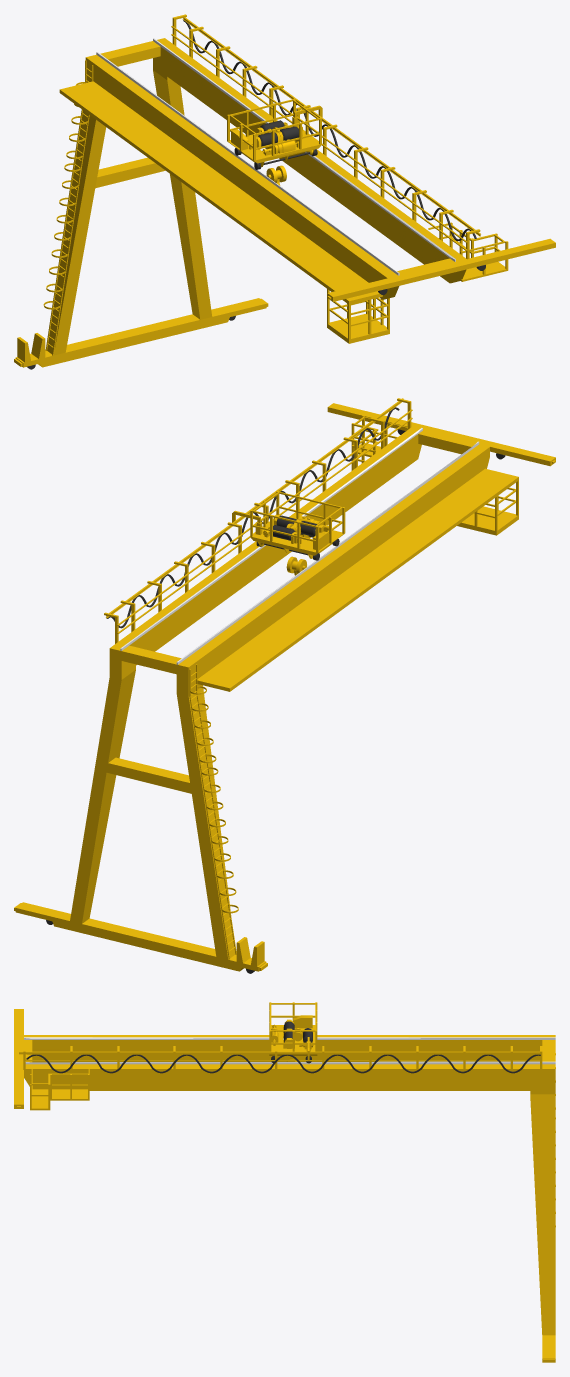
3 renders of one model, top to bottom at view 1: azimuth 30°, elevation 25°; view 2: azimuth 150°, elevation 25°; view 3: azimuth 270°, elevation 25°, orthographic. The views are drawn at different scales.
Visible parts, largest first — view 1: 2_Bay_C_868_Body, 2_Bay_C_868_Head_01; view 2: 2_Bay_C_868_Body, 2_Bay_C_868_Head_01; view 3: 2_Bay_C_868_Body, 2_Bay_C_868_Head_01.
Part boxes in pixels (x1=…): 2_Bay_C_868_Body: x1=14, y1=14, x2=555, y2=369; 2_Bay_C_868_Head_01: x1=227, y1=98, x2=322, y2=169; 2_Bay_C_868_Body: x1=14, y1=398, x2=555, y2=973; 2_Bay_C_868_Head_01: x1=232, y1=491, x2=345, y2=560; 2_Bay_C_868_Body: x1=14, y1=1009, x2=555, y2=1362; 2_Bay_C_868_Head_01: x1=269, y1=1002, x2=317, y2=1063.
Size of the model in its own units: 10.3 by 13.29 by 22.18.
